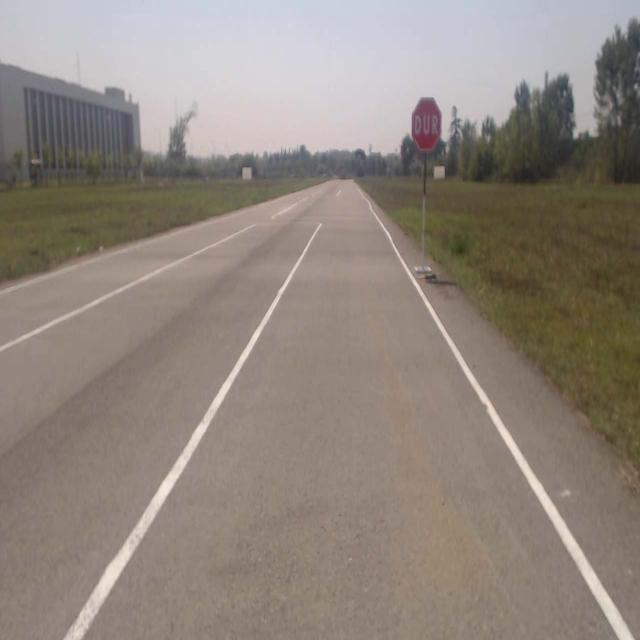dur: (412, 98, 442, 152)
